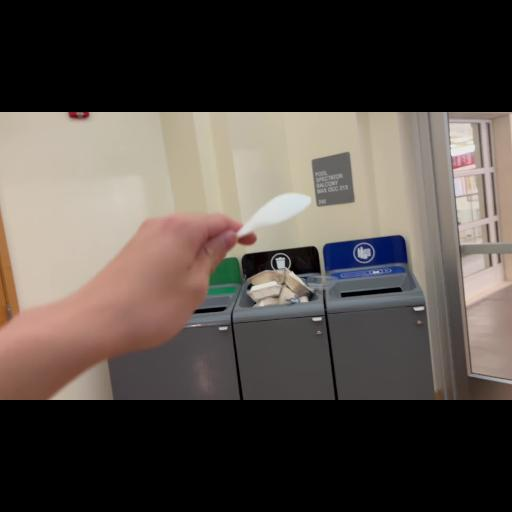utensil: (196, 186, 320, 246)
